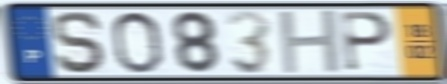3: (224, 7, 277, 76)
8: (170, 9, 221, 75)
H: (276, 8, 346, 77)
O: (109, 9, 165, 76)
P: (338, 9, 395, 74)
S: (51, 9, 110, 76)
